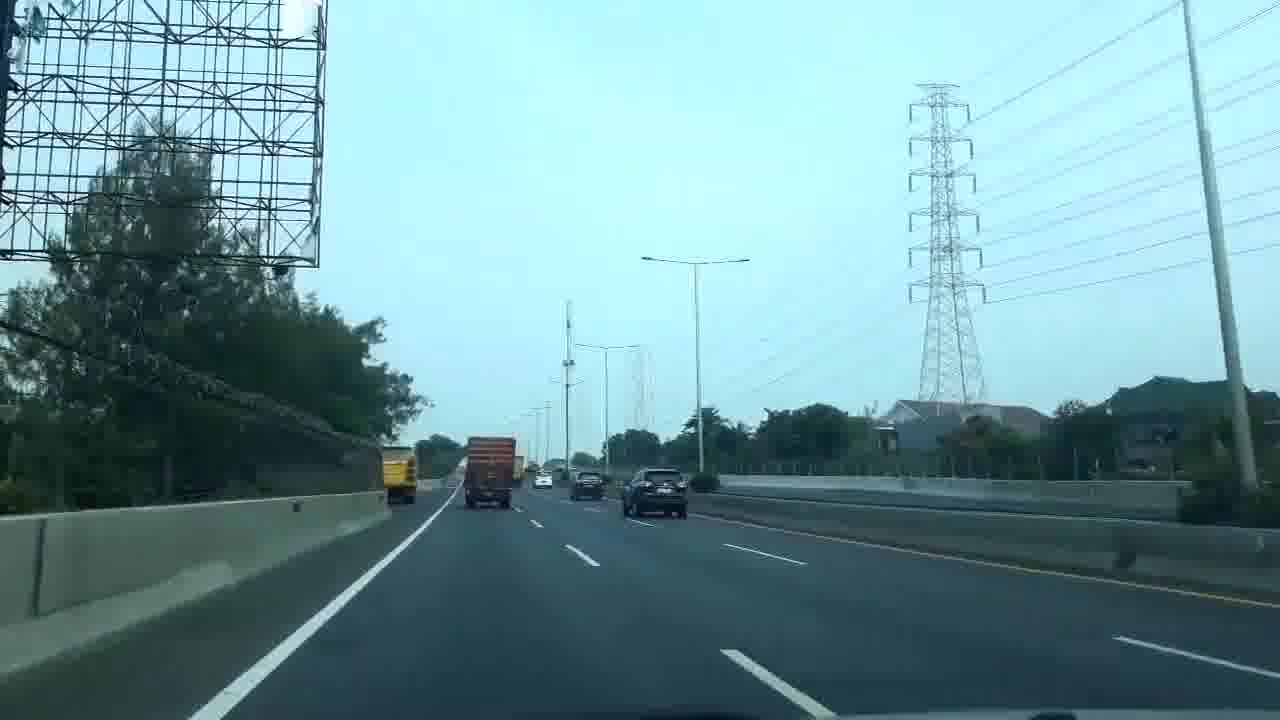plate_positive: (656, 488, 672, 493)
